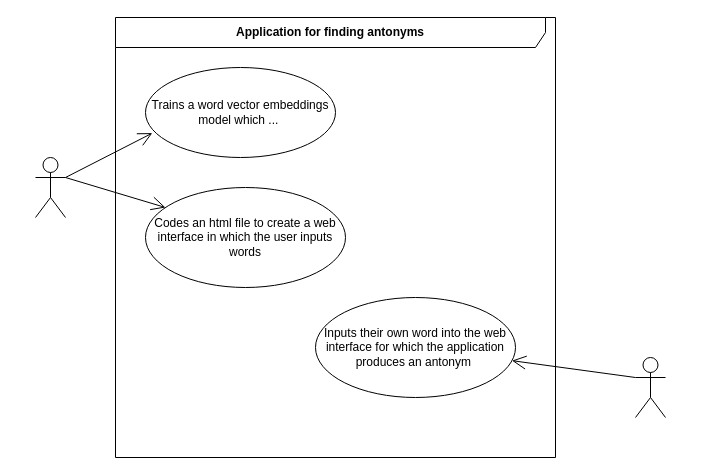
The diagram is 703 pixels wide and 475 high, and some of its shapes have lost their labels. The shapes that lost their labels are listed below. From the top down, each one's centre as x and y in pixels, then its label:
the point at 50,187: Programmer
the point at 650,387: Student User
